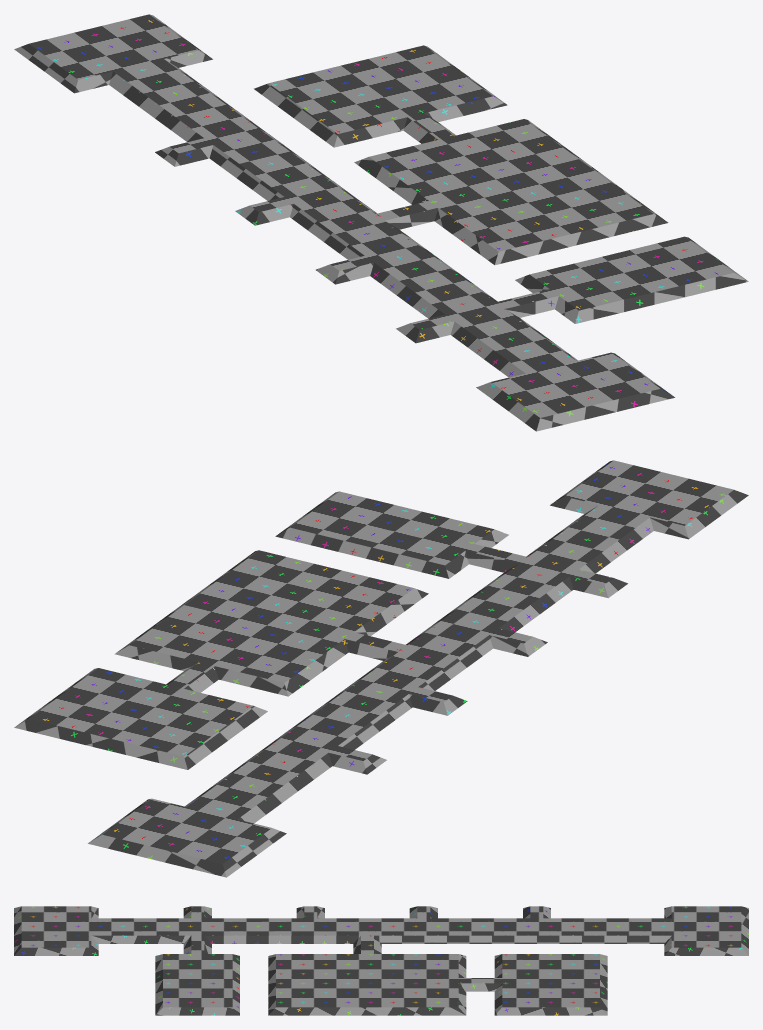
The model's file is testlevelROOF.glb.
3 renders of one model, top to bottom at view 1: azimuth 30°, elevation 25°; view 2: azimuth 150°, elevation 25°; view 3: azimuth 270°, elevation 25°, orthographic. The views are drawn at different scales.
Parts seen in each view (by area): view 1: TestLevelROOF-col; view 2: TestLevelROOF-col; view 3: TestLevelROOF-col.
Boxes of the visible parts, bbox=[...] form: TestLevelROOF-col: bbox=[14, 14, 748, 431]; TestLevelROOF-col: bbox=[14, 460, 748, 877]; TestLevelROOF-col: bbox=[14, 906, 748, 1015].
Size of the model in its own units: 9 by 0.2 by 26.
1 material, 1 textured.
